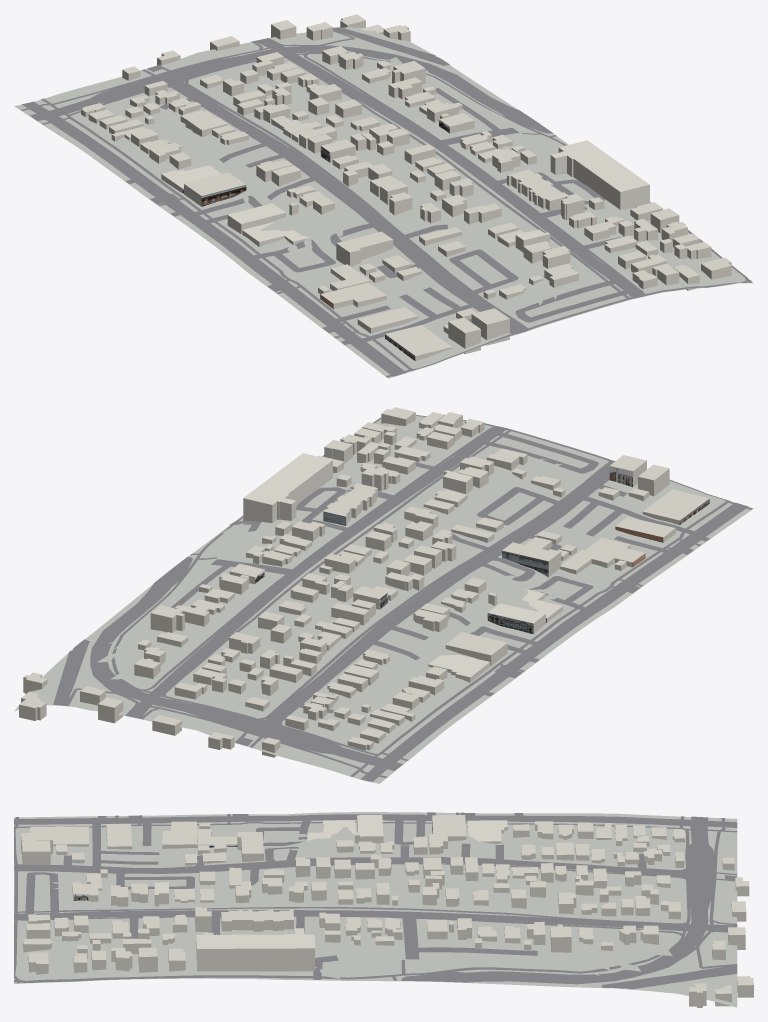
File: north.glb
3 renders of one model, top to bottom at view 1: azimuth 30°, elevation 25°; view 2: azimuth 150°, elevation 25°; view 3: azimuth 270°, elevation 25°, orthographic. The views are drawn at different scales.
Parts seen in each view (by area): view 1: ground, roads, bldg_1253467111_Spyglass_Hill_Apartments, bldg_1253467461, bldg_561924615, bldg_559876029_Bremerton_Post_Office, bldg_561924614, bldg_1253467408, bldg_1253467317, bldg_561924612, bldg_561924623, bldg_1253467198 (+3 smaller); view 2: ground, roads, bldg_1253467111_Spyglass_Hill_Apartments, bldg_559876029_Bremerton_Post_Office, bldg_1253467317, bldg_1253467461, bldg_1253467403, bldg_561924614, bldg_1253467420, bldg_561924615, bldg_561924616, bldg_1253467408 (+2 smaller); view 3: ground, roads, bldg_1253467111_Spyglass_Hill_Apartments, bldg_1253467461, bldg_561924614, bldg_559876029_Bremerton_Post_Office, bldg_1253467403, bldg_1253467317, bldg_561924615, bldg_561924612, bldg_1253467408, bldg_561924623 (+24 smaller).
Part boxes in pixels (left/top/right/bottom): ground: left=14, top=27, right=753, bottom=378; roads: left=21, top=27, right=751, bottom=377; bldg_1253467111_Spyglass_Hill_Apartments: left=550, top=140, right=649, bottom=209; bldg_1253467461: left=507, top=169, right=568, bottom=210; bldg_561924615: left=336, top=231, right=393, bottom=266; bldg_559876029_Bremerton_Post_Office: left=385, top=325, right=452, bottom=361; bldg_561924614: left=320, top=282, right=386, bottom=308; bldg_1253467408: left=227, top=203, right=285, bottom=233; bldg_1253467317: left=184, top=172, right=245, bottom=206; bldg_561924612: left=471, top=308, right=509, bottom=345; bldg_561924623: left=357, top=307, right=417, bottom=333; bldg_1253467198: left=242, top=222, right=312, bottom=247; ground: left=14, top=415, right=753, bottom=783; roads: left=53, top=415, right=752, bottom=781; bldg_1253467111_Spyglass_Hill_Apartments: left=243, top=453, right=332, bottom=522; bldg_559876029_Bremerton_Post_Office: left=642, top=489, right=709, bottom=524; bldg_1253467317: left=445, top=632, right=507, bottom=665; bldg_1253467461: left=323, top=483, right=377, bottom=525; bldg_1253467403: left=428, top=655, right=490, bottom=682; bldg_561924614: left=585, top=537, right=644, bottom=567; bldg_1253467420: left=150, top=605, right=184, bottom=632; bldg_561924615: left=502, top=542, right=561, bottom=576; bldg_561924616: left=559, top=549, right=614, bottom=574; bldg_1253467408: left=488, top=603, right=545, bottom=633; ground: left=14, top=812, right=737, bottom=1007; roads: left=14, top=812, right=737, bottom=989; bldg_1253467111_Spyglass_Hill_Apartments: left=196, top=928, right=314, bottom=971; bldg_1253467461: left=221, top=909, right=293, bottom=931; bldg_561924614: left=162, top=821, right=196, bottom=848; bldg_559876029_Bremerton_Post_Office: left=30, top=826, right=88, bottom=846; bldg_1253467403: left=467, top=820, right=507, bottom=843; bldg_1253467317: left=432, top=815, right=466, bottom=841; bldg_561924615: left=237, top=831, right=263, bottom=862; bldg_561924612: left=22, top=840, right=50, bottom=864; bldg_1253467408: left=357, top=815, right=383, bottom=843; bldg_561924623: left=106, top=824, right=132, bottom=849.
Bounding box in the file's own units: 246 × 36.58 × 437.
179 materials, 14 textured.
